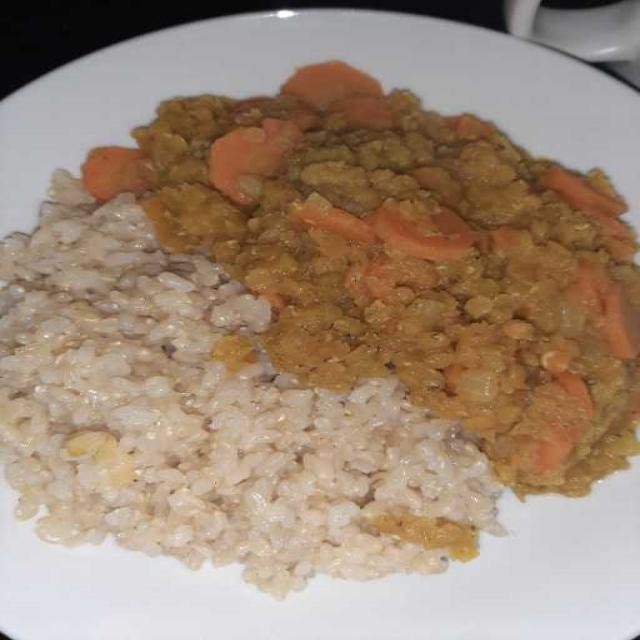carrot-raw: (66, 66, 628, 494)
rice-whole-grain: (0, 178, 487, 578)
soup-of-lentils-dahl-dhal: (130, 73, 634, 513)
